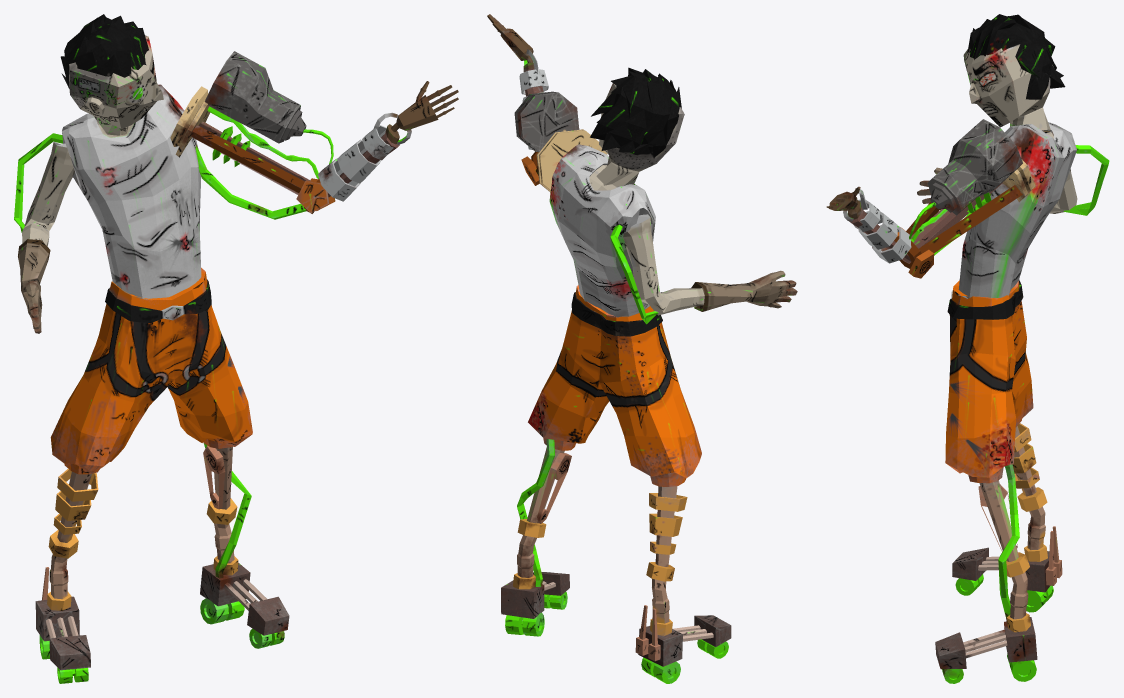
File: CyborgFINALAnimation_000036.obj
3 views of the same model, side by side, from view 1: azimuth 30°, elevation 25°; view 2: azimuth 150°, elevation 25°; view 3: azimuth 270°, elevation 25° (orthographic). The views are drawn at different scales.
Parts seen in each view (by area): view 1: CyborgMesh_Cube.002; view 2: CyborgMesh_Cube.002; view 3: CyborgMesh_Cube.002.
Boxes of the visible parts, x1,y1,x2,y2 form: CyborgMesh_Cube.002: (14,14,458,683); CyborgMesh_Cube.002: (487,14,797,683); CyborgMesh_Cube.002: (826,14,1109,683).
Size of the model in its own units: 5.92 by 9.53 by 4.03.
